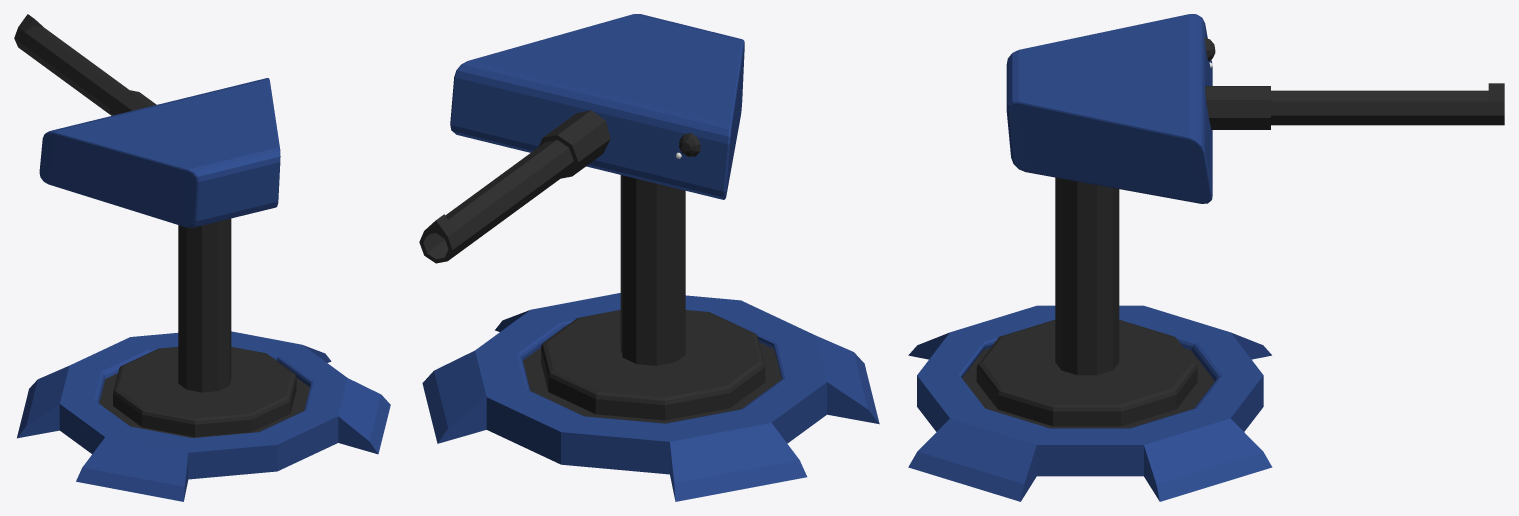
Rendered from singleTurretUpgrade01.fbx.
3 renders of one model, left to right at view 1: azimuth 30°, elevation 25°; view 2: azimuth 150°, elevation 25°; view 3: azimuth 270°, elevation 25°, orthographic. The views are drawn at different scales.
Parts seen in each view (by area): view 1: FirstUpgradeTurret; view 2: FirstUpgradeTurret; view 3: FirstUpgradeTurret.
Part boxes in pixels (<box>): FirstUpgradeTurret: <box>14,14,390,501</box>; FirstUpgradeTurret: <box>419,14,879,501</box>; FirstUpgradeTurret: <box>908,14,1504,501</box>.
Bounding box in the file's own units: 61.77 × 53.54 × 86.05.
